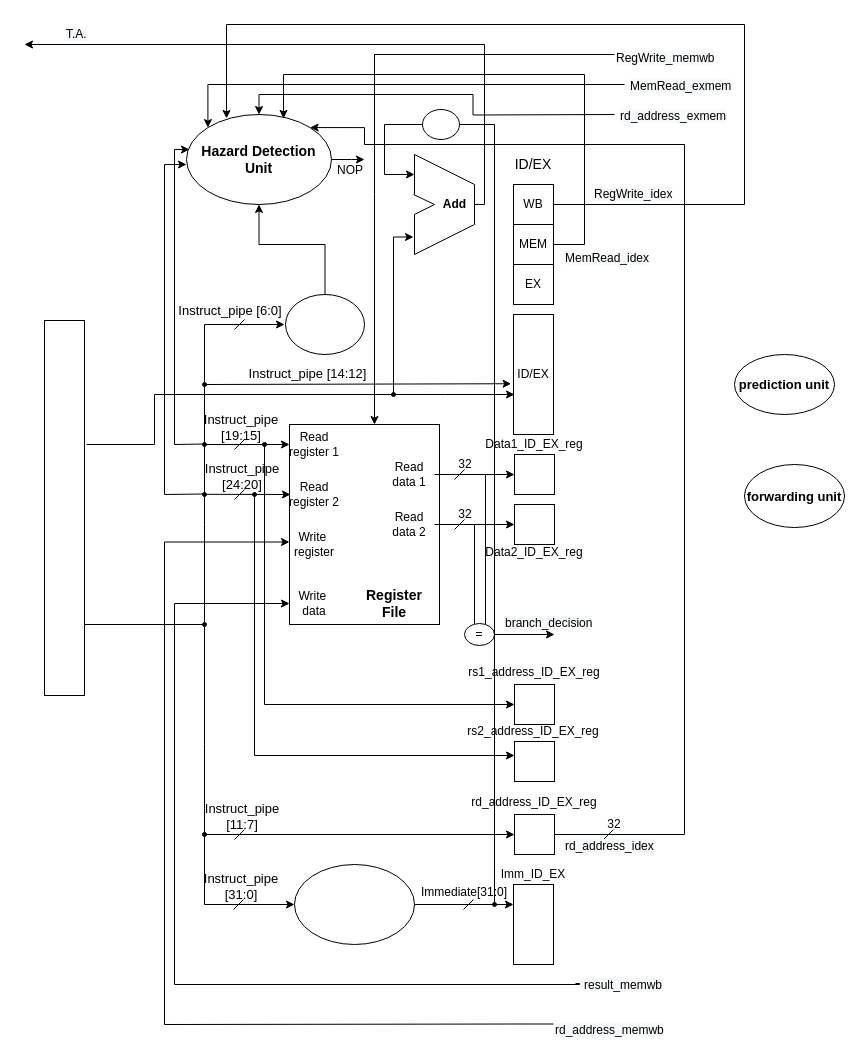
The diagram is 862 pixels wide and 1064 high, and some of its shapes have lost their labels. The shapes that lost their labels are listed below. From the top down, each one's centre as x and y in pixels, then its label:
(441,124): shift left 1
(324,324): Control
(64,508): IF/ID
(354,904): Immediate Generator
